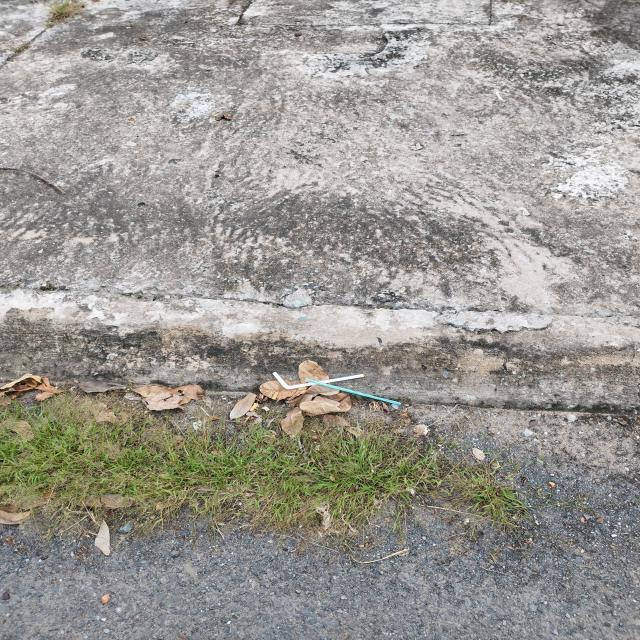drinking straw: (304, 378, 402, 406), (272, 372, 365, 391)
